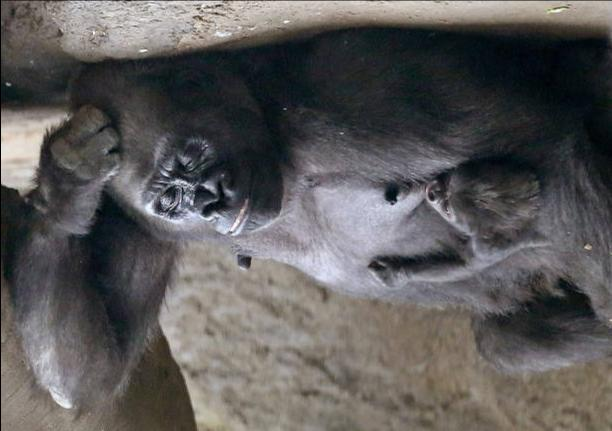gorille_Autres: (17, 49, 608, 394)
